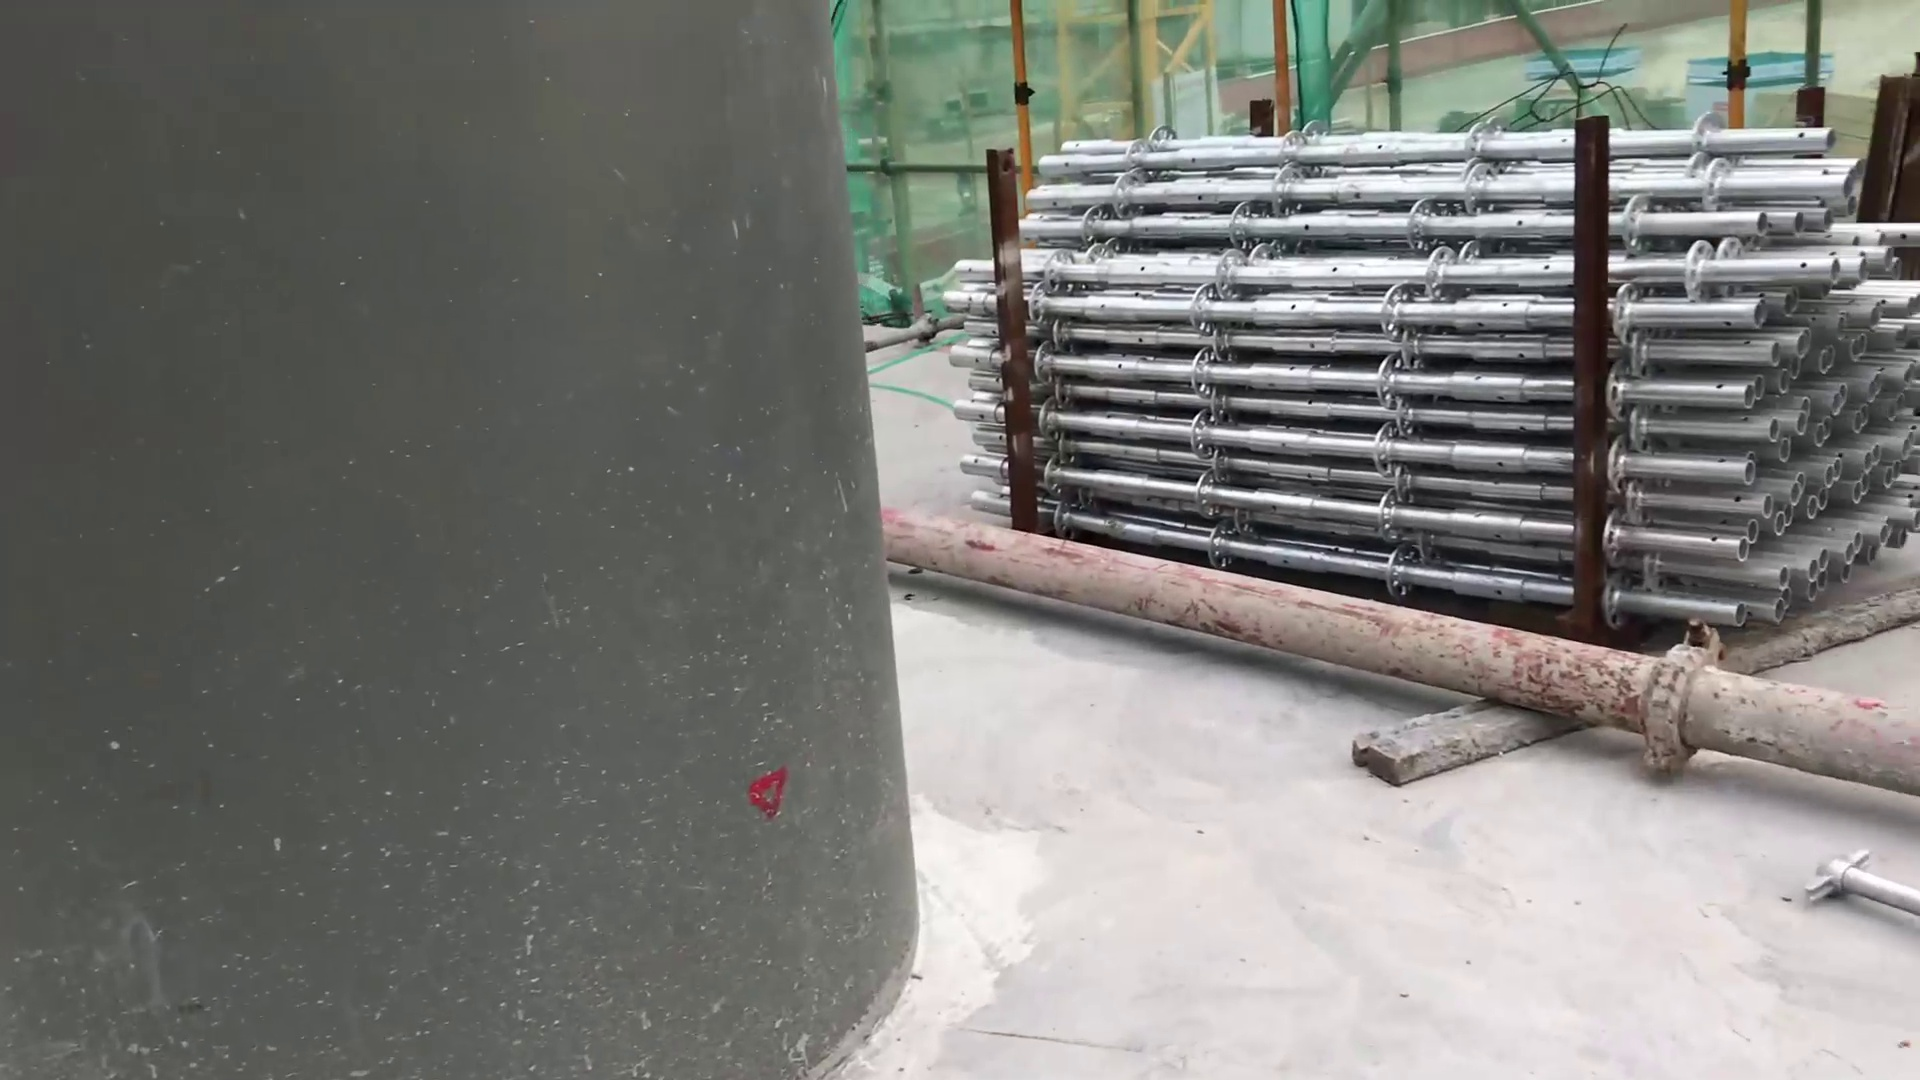scaffold: (942, 119, 1919, 633)
